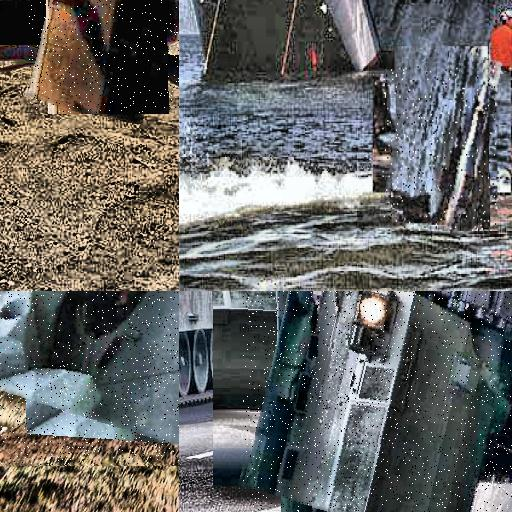tanks: (245, 292, 512, 512), (1, 292, 180, 445), (384, 68, 498, 232), (28, 1, 177, 115)
